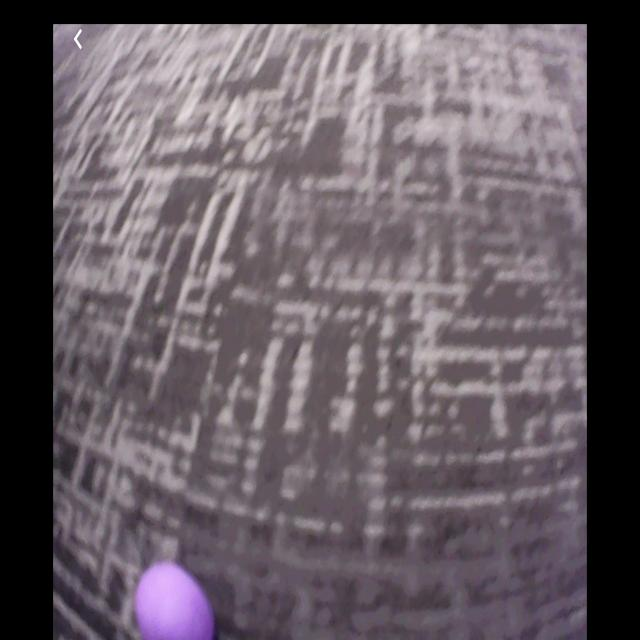ball: (137, 568, 213, 640)
